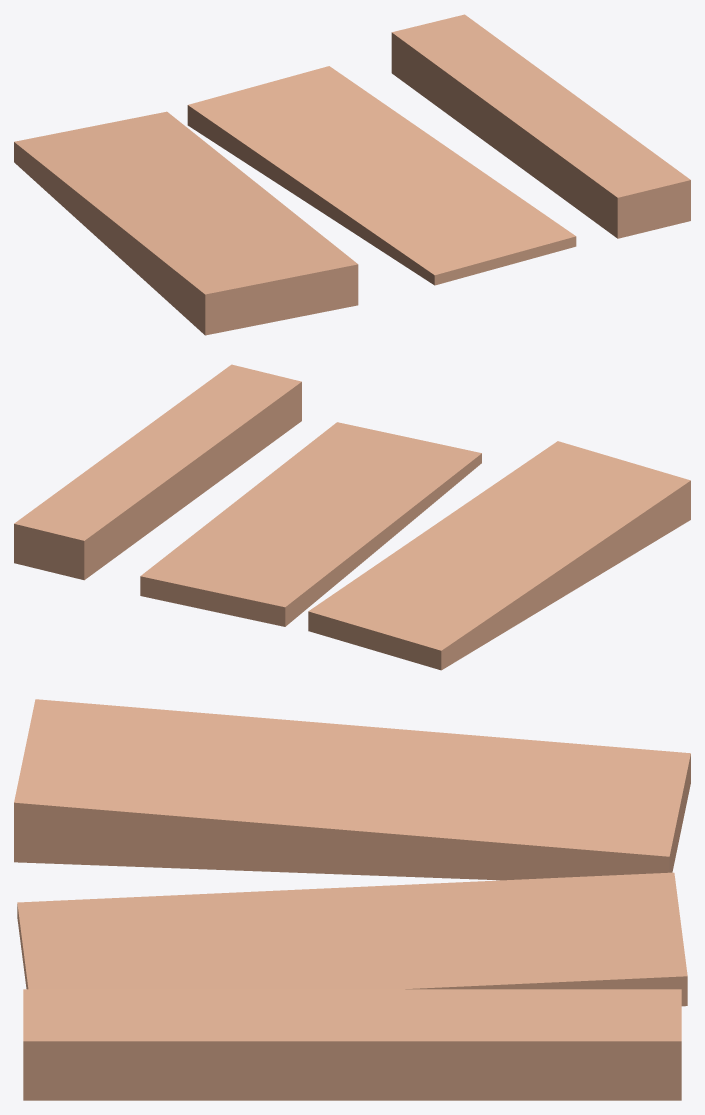
File: path_woodEnd.glb
The picture shows the model from 3 angles, top to bottom: view 1: azimuth 30°, elevation 25°; view 2: azimuth 150°, elevation 25°; view 3: azimuth 270°, elevation 25°; orthographic projection. The views are drawn at different scales.
Parts seen in each view (by area): view 1: path_woodEnd; view 2: path_woodEnd; view 3: path_woodEnd.
Boxes of the visible parts, x1,y1,x2,y2 form: path_woodEnd: (14, 14, 690, 335); path_woodEnd: (14, 364, 690, 670); path_woodEnd: (14, 699, 690, 1100).
Bounding box in the file's own units: 0.6148 × 0.05 × 0.5144.
